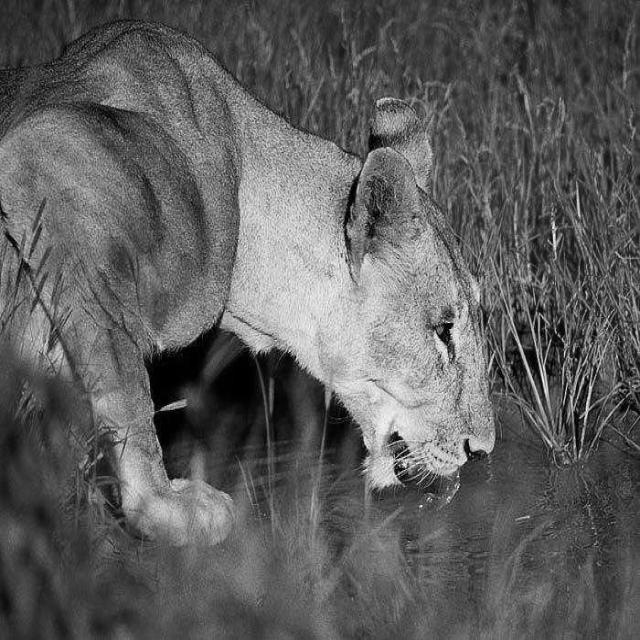Lion: (37, 3, 528, 531)
